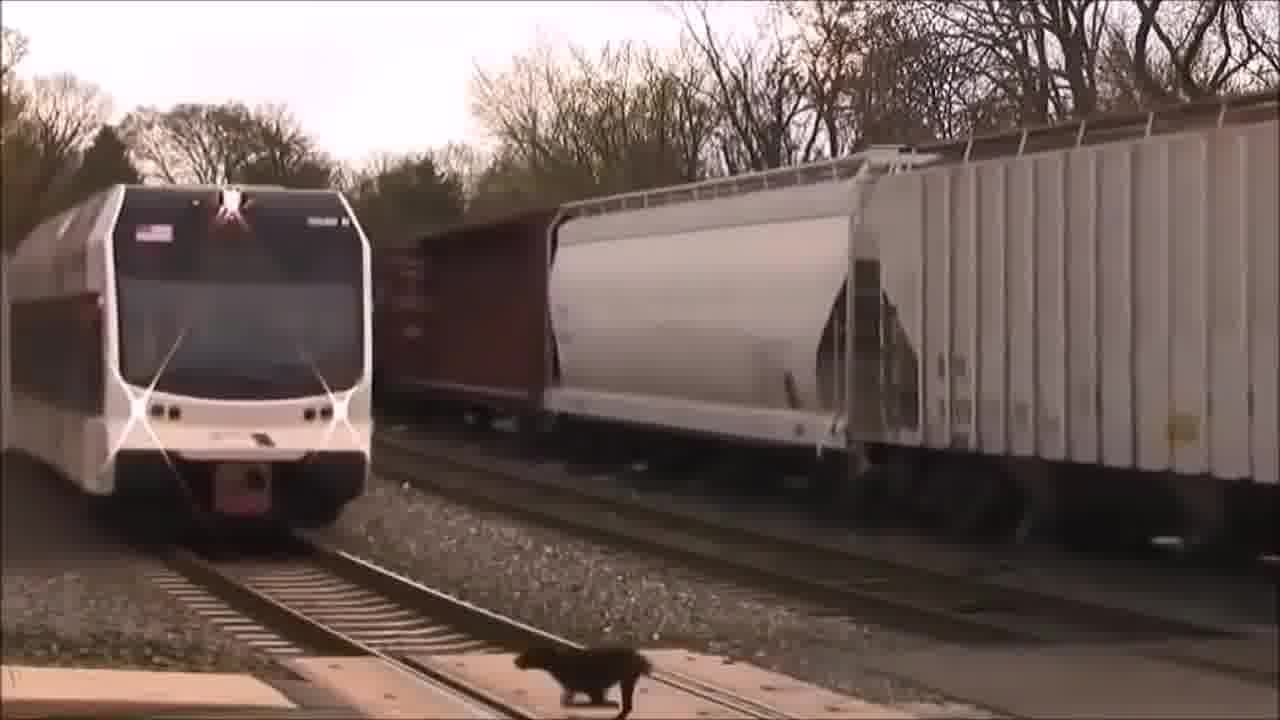crossing railway track: (203, 581, 842, 719)
